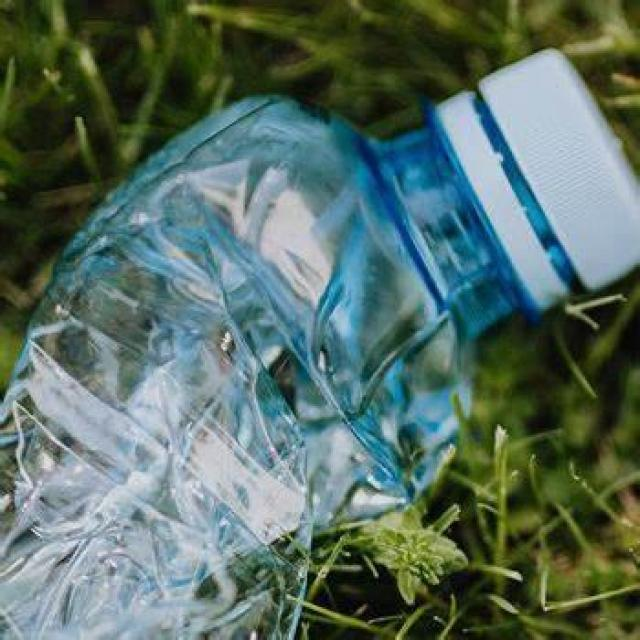plastic bottle: (0, 93, 576, 640)
plastic bottle cap: (475, 46, 640, 293)
